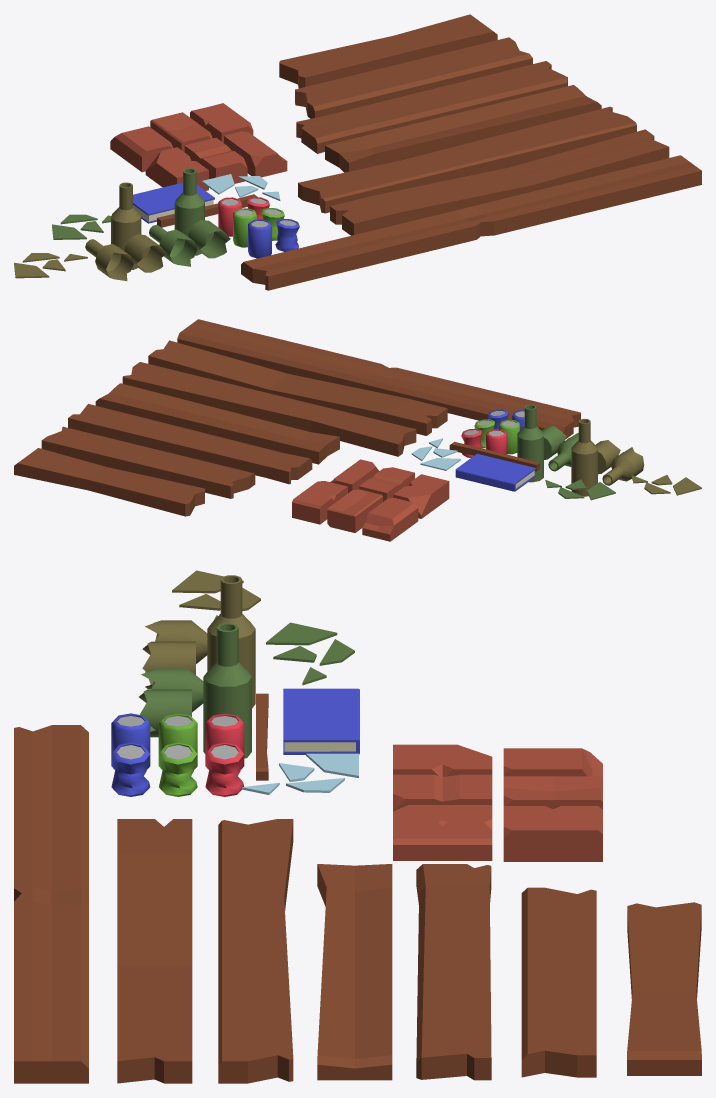
The model's file is uploads_files_4558369_Trash+Pack.fbx.
3 views of the same model, one above another, from view 1: azimuth 30°, elevation 25°; view 2: azimuth 150°, elevation 25°; view 3: azimuth 270°, elevation 25° (orthographic). The views are drawn at different scales.
Visible parts, largest first — view 1: Board 1, Board 3, Board 2, Board 4, Board 5, Board 6, Board 7, Brick 1, Brick 4, Brick 2, Brick 3, Cube.001 (+13 smaller); view 2: Board 1, Board 2, Board 3, Board 5, Board 4, Board 6, Board 7, Cube.001, Brick 4, Brick 5, Brick 6, Cylinder.010 (+12 smaller); view 3: Board 1, Board 3, Board 2, Board 5, Board 4, Board 6, Board 7, Brick 6, Brick 2, Cube.001, Cylinder.007, Brick 1 (+18 smaller).
Part boxes in pixels (box(x1,y1,x2,y2)): Board 1: box(241, 155, 701, 290); Board 3: box(330, 129, 669, 235); Board 2: box(298, 106, 636, 213); Board 4: box(325, 85, 601, 172); Board 5: box(296, 61, 567, 153); Board 6: box(295, 37, 532, 118); Board 7: box(279, 14, 497, 88); Brick 1: box(184, 137, 247, 183); Brick 4: box(110, 126, 172, 172); Brick 2: box(224, 131, 287, 177); Brick 3: box(145, 147, 208, 190); Cube.001: box(133, 182, 214, 223); Board 1: box(177, 319, 580, 439); Board 2: box(122, 362, 416, 456); Board 3: box(148, 340, 447, 435); Board 5: box(68, 404, 312, 484); Board 4: box(95, 383, 339, 464); Board 6: box(41, 426, 255, 498); Board 7: box(14, 448, 204, 516); Cube.001: box(455, 453, 535, 491); Brick 4: box(362, 498, 418, 541); Brick 5: box(327, 489, 382, 532); Brick 6: box(292, 481, 347, 524); Cylinder.010: box(571, 418, 597, 496); Board 1: box(14, 725, 88, 1083); Board 3: box(117, 819, 192, 1083); Board 2: box(218, 819, 293, 1083); Board 5: box(416, 864, 491, 1080); Board 4: box(317, 864, 392, 1080); Board 6: box(521, 887, 596, 1077); Board 7: box(627, 902, 701, 1075); Brick 6: box(503, 806, 602, 861); Brick 2: box(393, 805, 492, 860); Cube.001: box(283, 688, 359, 754); Cylinder.007: box(203, 623, 251, 758); Brick 1: box(393, 774, 492, 811).
Size of the model in its own units: 1317 by 158 by 792.
